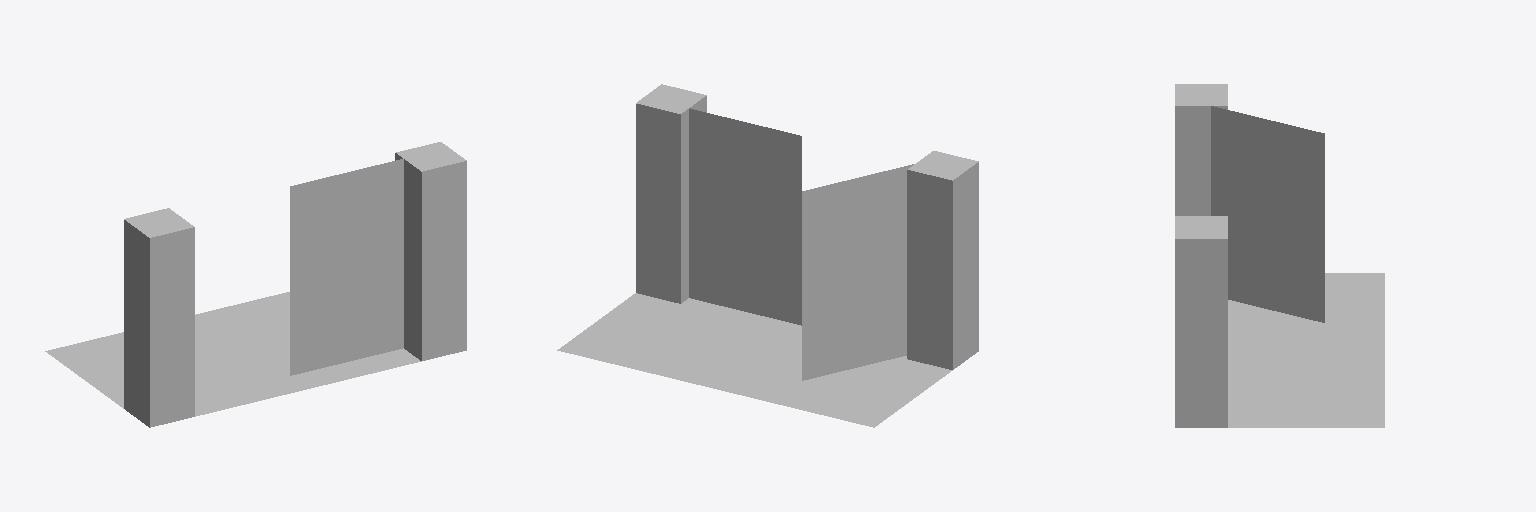
File: entrance.obj
The picture shows the model from 3 angles: view 1: azimuth 30°, elevation 25°; view 2: azimuth 150°, elevation 25°; view 3: azimuth 270°, elevation 25°; orthographic projection.
Parts seen in each view (by area): view 1: plane, cuboid; view 2: plane, cuboid; view 3: plane, cuboid.
Boxes of the visible parts, x1=… form: plane: x1=45, y1=159, x2=421, y2=416; cuboid: x1=124, y1=142, x2=466, y2=427; plane: x1=557, y1=108, x2=952, y2=427; cuboid: x1=636, y1=84, x2=978, y2=369; plane: x1=1211, y1=106, x2=1384, y2=427; cuboid: x1=1175, y1=84, x2=1227, y2=427.
Bounding box in the file's own units: 7 × 4 × 4.